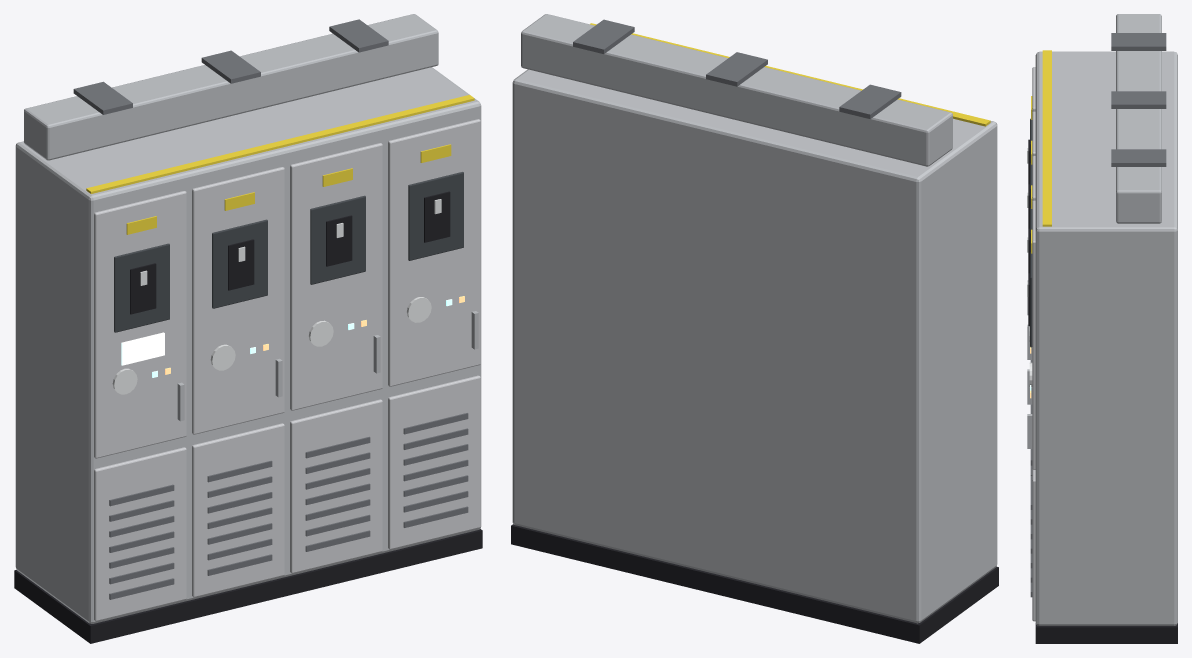
Rendered from swgear_big.fbx.
The picture shows the model from 3 angles, left to right: view 1: azimuth 30°, elevation 25°; view 2: azimuth 150°, elevation 25°; view 3: azimuth 270°, elevation 25°; orthographic projection. The views are drawn at different scales.
Parts seen in each view (by area): view 1: swgear_big; view 2: swgear_big; view 3: swgear_big.
Part boxes in pixels (x1,y1,x2,y2): swgear_big: (14,14,482,643); swgear_big: (511,14,998,643); swgear_big: (1027,14,1177,643).
Size of the model in its own units: 1.84 by 2.2 by 0.658.
